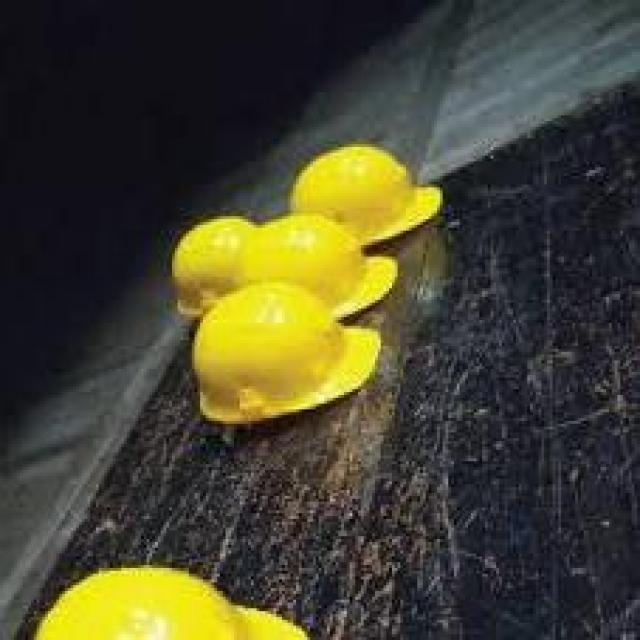Safety-Helmet: (170, 268, 400, 435), (262, 127, 462, 308), (0, 553, 335, 640), (152, 205, 271, 320)
